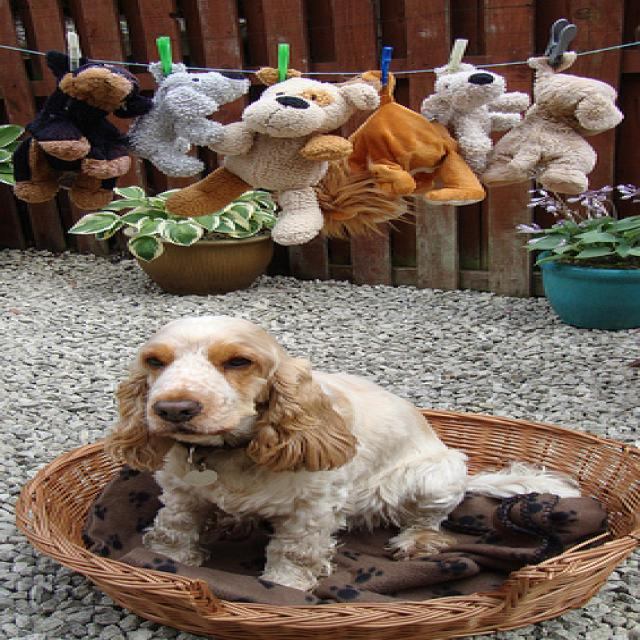dog-english_cocker_spaniel: (95, 307, 595, 599)
